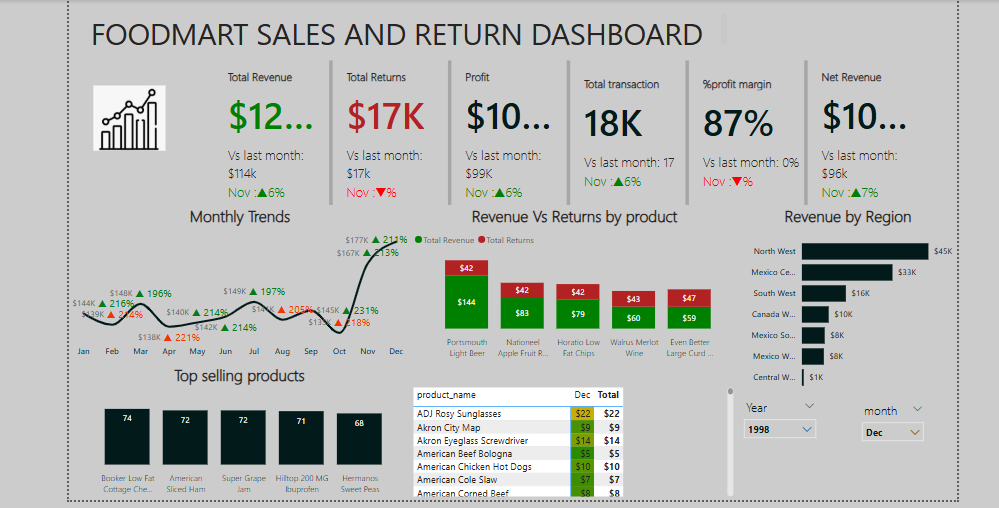

What the dashboard file says about the page in this screenshot:
{"tool":"powerbi","page":{"name":"DASHBOARD ","canvas":[1280,720],"ordinal":0},"visuals":[{"type":"slicer","fields":{"Values":["Calendar-Lookup.Year"]},"box":[961.9,568.8,123.8,67.7],"z":0},{"type":"slicer","fields":{"Values":["Calendar-Lookup.Short month"]},"box":[1131.8,573.1,109.4,72],"z":1000},{"type":"cardVisual","fields":{"Data":["measure.Total Revenue","measure.Total Returns","measure.Profit","measure.Total transaction","measure.%profit margin","measure.Net Revenue"]},"box":[211.7,82.1,1033.9,218.9],"z":2000},{"type":"lineChart","title":"Monthly Trends","fields":{"Category":["Calendar-Lookup.date Hierarchy.Day","Calendar-Lookup.date Hierarchy.Year","Calendar-Lookup.date Hierarchy.Short month"],"Y":["measure.Total Revenue"]},"box":[0,295.2,492.5,229],"z":3000},{"type":"barChart","title":" Revenue by Region","fields":{"Category":["Region-Lookup.sales_region"],"Y":["measure.Total Revenue"]},"box":[963.4,295.2,316.8,277.9],"z":4000},{"type":"columnChart","title":" Revenue Vs Returns by product","fields":{"Category":["Product-Lookup.product_name"],"Y":["measure.Total Revenue","measure.Total Returns"]},"box":[492.5,295.2,470.9,229],"z":5000},{"type":"columnChart","title":"Top selling products","fields":{"Category":["Product-Lookup.product_name"],"Y":["measure.Qty sold"]},"box":[0,524.2,491,195.8],"z":6000},{"type":"pivotTable","fields":{"Rows":["Product-Lookup.product_name"],"Columns":["Calendar-Lookup. month"],"Values":["measure.Total Returns"]},"box":[491,553,470.9,167],"z":7000},{"type":"textbox","box":[0,14.4,951.8,67.7],"z":8000},{"type":"image","box":[0,118.1,174.2,103.7],"z":9000}]}

Visuals, with their boxes on the page's 1280x720 design canvas (x1, y1, x2, y2). These are canvas units, not pixel positions in the 999x508 screenshot, which may show the page scaled, cropped or inside an application window:
slicer - Calendar-Lookup.Year: BBox(962, 569, 1086, 636)
slicer - Calendar-Lookup.Short month: BBox(1132, 573, 1241, 645)
cardVisual - measure.Total Revenue x measure.Total Returns: BBox(212, 82, 1246, 301)
"Monthly Trends" lineChart: BBox(0, 295, 492, 524)
" Revenue by Region" barChart: BBox(963, 295, 1280, 573)
" Revenue Vs Returns by product" columnChart: BBox(492, 295, 963, 524)
"Top selling products" columnChart: BBox(0, 524, 491, 720)
pivotTable - Product-Lookup.product_name x Calendar-Lookup. month: BBox(491, 553, 962, 720)
textbox: BBox(0, 14, 952, 82)
image: BBox(0, 118, 174, 222)
